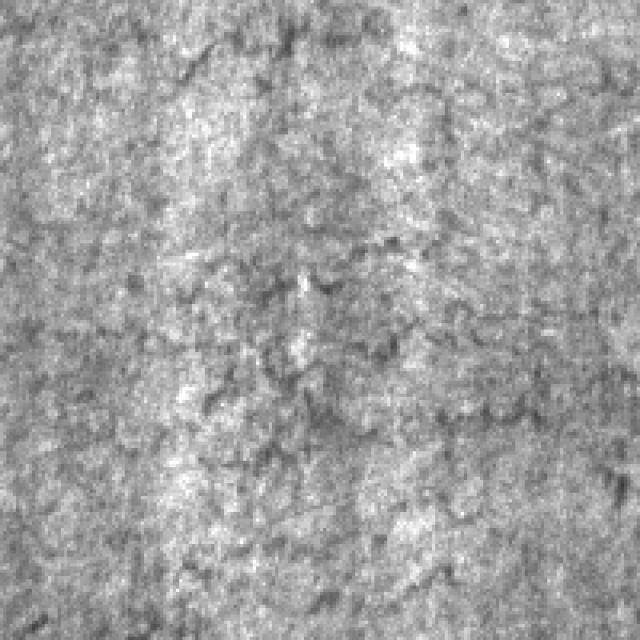crazing: (26, 227, 636, 474), (96, 352, 518, 611), (151, 0, 634, 192)
